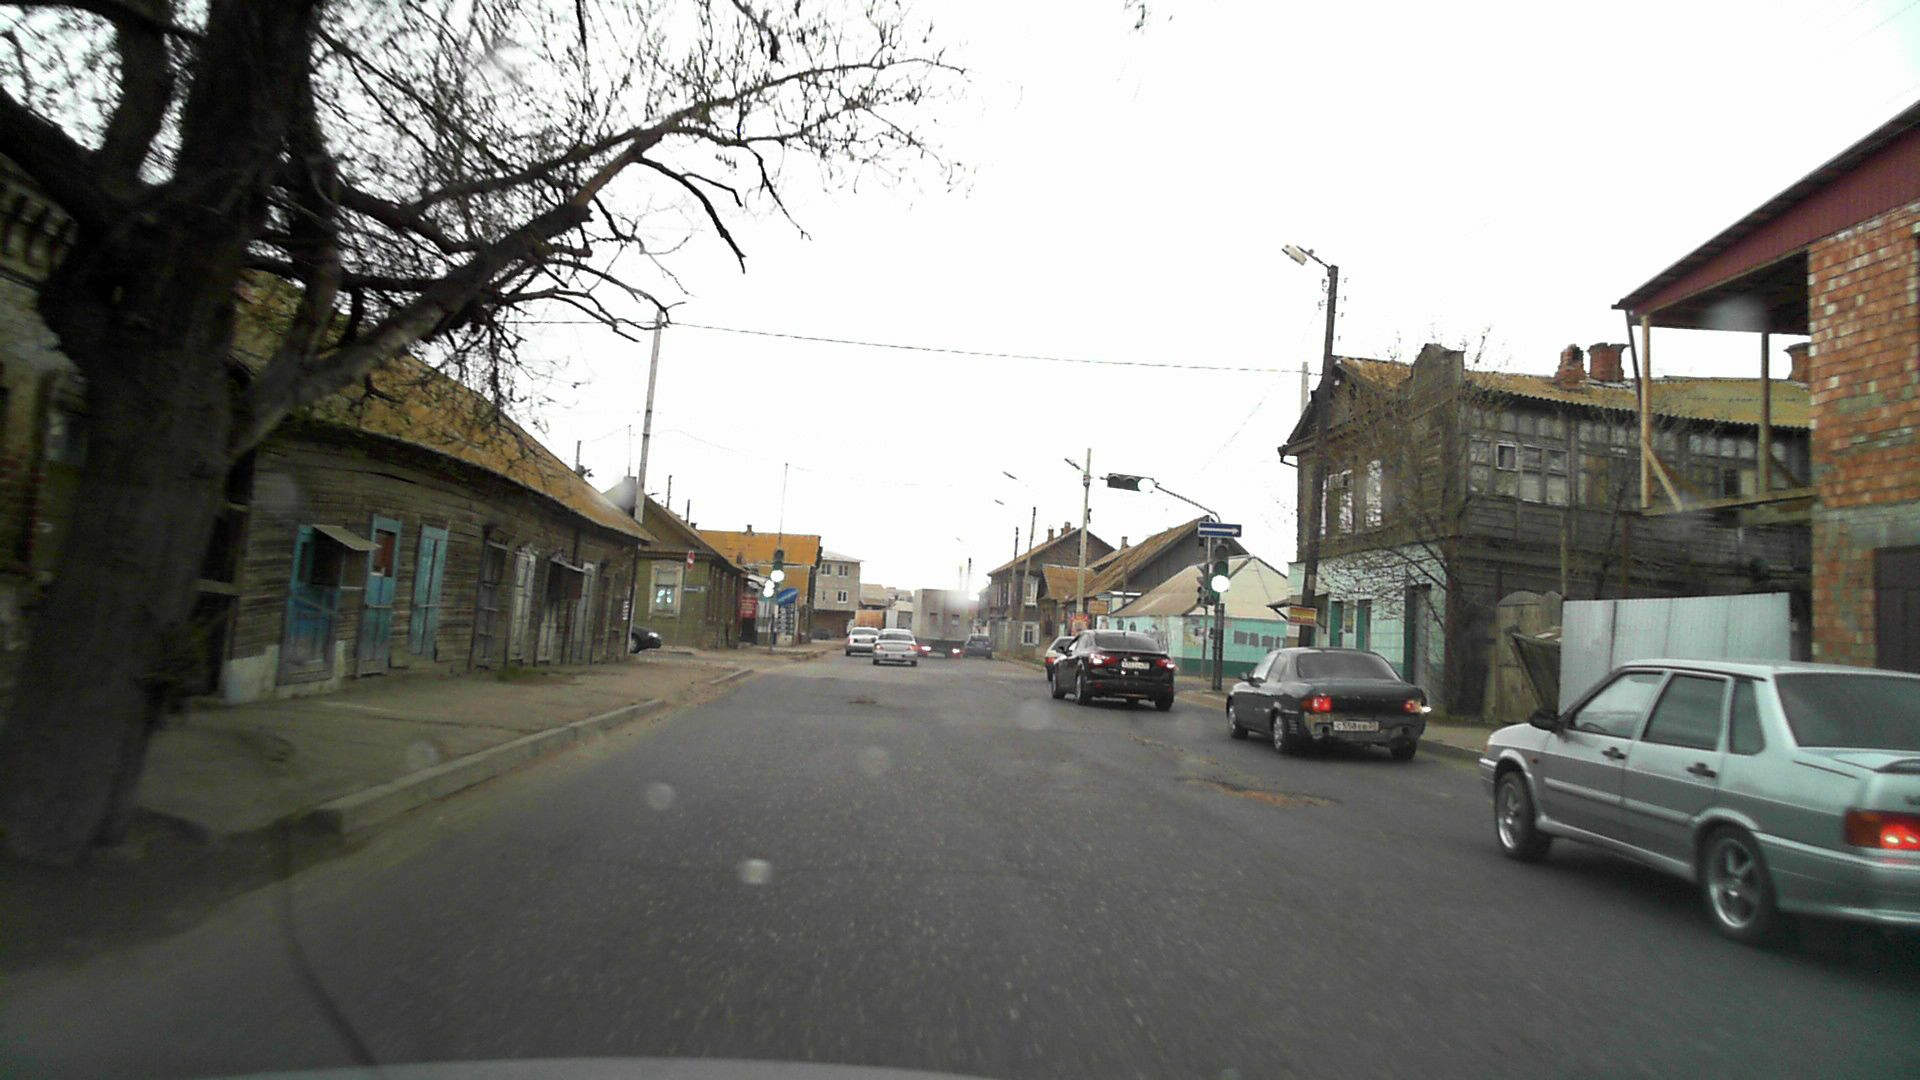One-Way Traffic: (1197, 522, 1242, 537)
